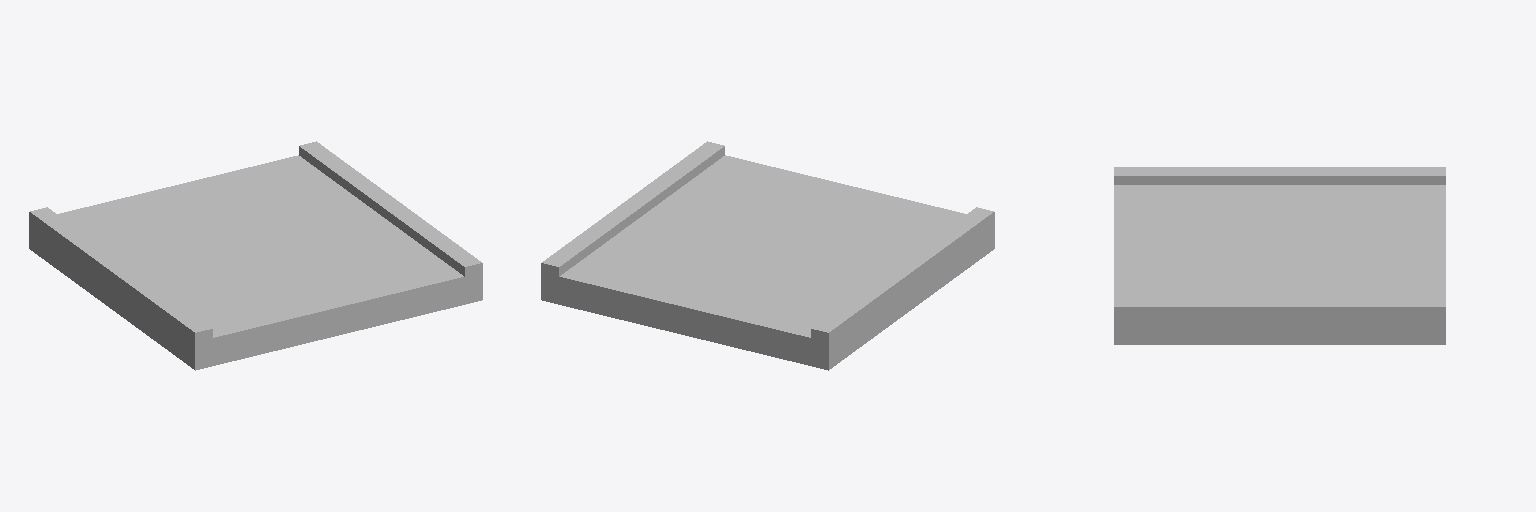
File: road.obj
3 views of the same model, side by side, from view 1: azimuth 30°, elevation 25°; view 2: azimuth 150°, elevation 25°; view 3: azimuth 270°, elevation 25° (orthographic).
Bounding box in the file's own units: 32 × 4 × 32.